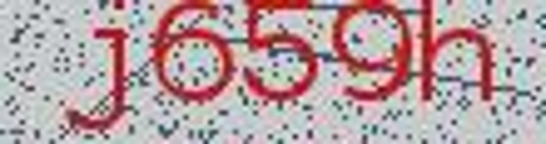5: (239, 1, 321, 110)
6: (148, 1, 237, 113)
9: (326, 1, 415, 110)
h: (416, 1, 501, 116)
j: (57, 1, 135, 131)
